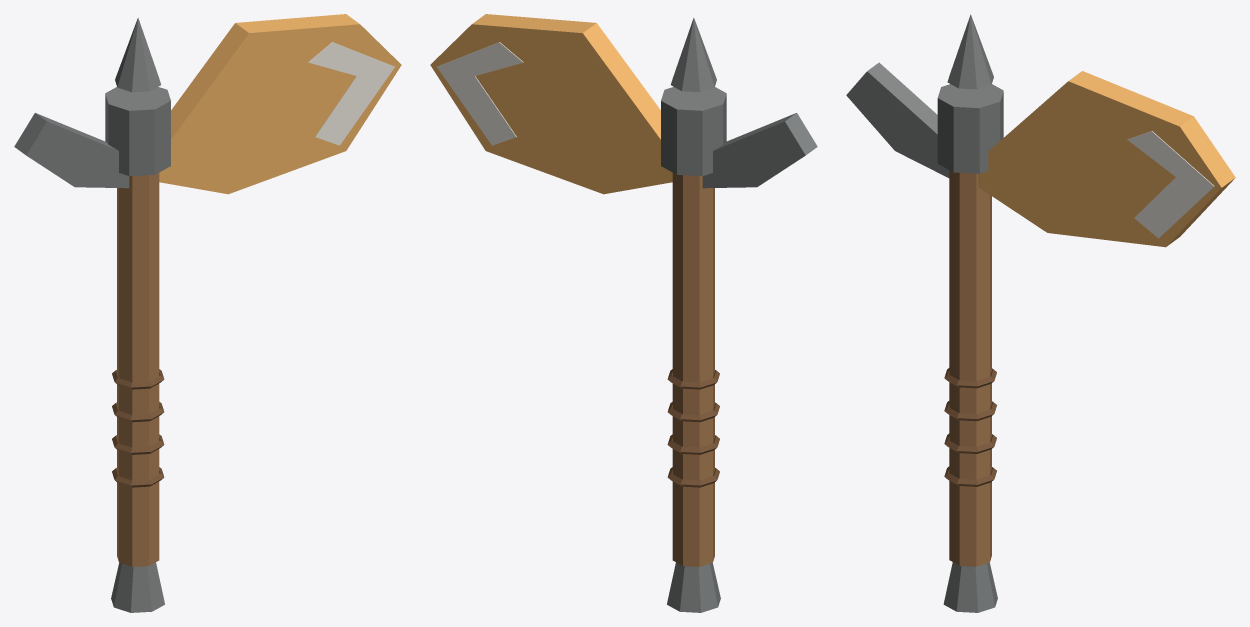
File: t6_axe.glb
3 views of the same model, side by side, from view 1: azimuth 30°, elevation 25°; view 2: azimuth 150°, elevation 25°; view 3: azimuth 330°, elevation 25° (orthographic).
Visible parts, largest first — view 1: RightBlade, WoodHandle, TopSocket, BackSpike, RightBladeEdge, BottomPommel, TopSpike; view 2: RightBlade, WoodHandle, TopSocket, BackSpike, RightBladeEdge, BottomPommel, TopSpike; view 3: RightBlade, WoodHandle, BackSpike, TopSocket, RightBladeEdge, BottomPommel, TopSpike.
Boxes of the visible parts, <box> form: RightBlade: <box>159,14,401,194</box>; WoodHandle: <box>117,173,159,566</box>; TopSocket: <box>105,87,170,176</box>; BackSpike: <box>14,113,129,188</box>; RightBladeEdge: <box>308,42,394,145</box>; BottomPommel: <box>111,562,164,612</box>; TopSpike: <box>115,17,160,92</box>; RightBlade: <box>430,14,672,194</box>; WoodHandle: <box>672,173,714,566</box>; TopSocket: <box>661,87,726,176</box>; BackSpike: <box>702,113,817,188</box>; RightBladeEdge: <box>437,42,523,145</box>; BottomPommel: <box>667,562,720,612</box>; TopSpike: <box>671,17,716,92</box>; RightBlade: <box>978,71,1235,247</box>; WoodHandle: <box>949,170,991,566</box>; BackSpike: <box>846,62,949,177</box>; TopSocket: <box>937,84,1003,173</box>; RightBladeEdge: <box>1127,131,1214,238</box>; BottomPommel: <box>943,562,997,612</box>; TopSpike: <box>947,14,993,89</box>.
Bounding box in the file's own units: 1.08 × 1.61 × 0.17.
